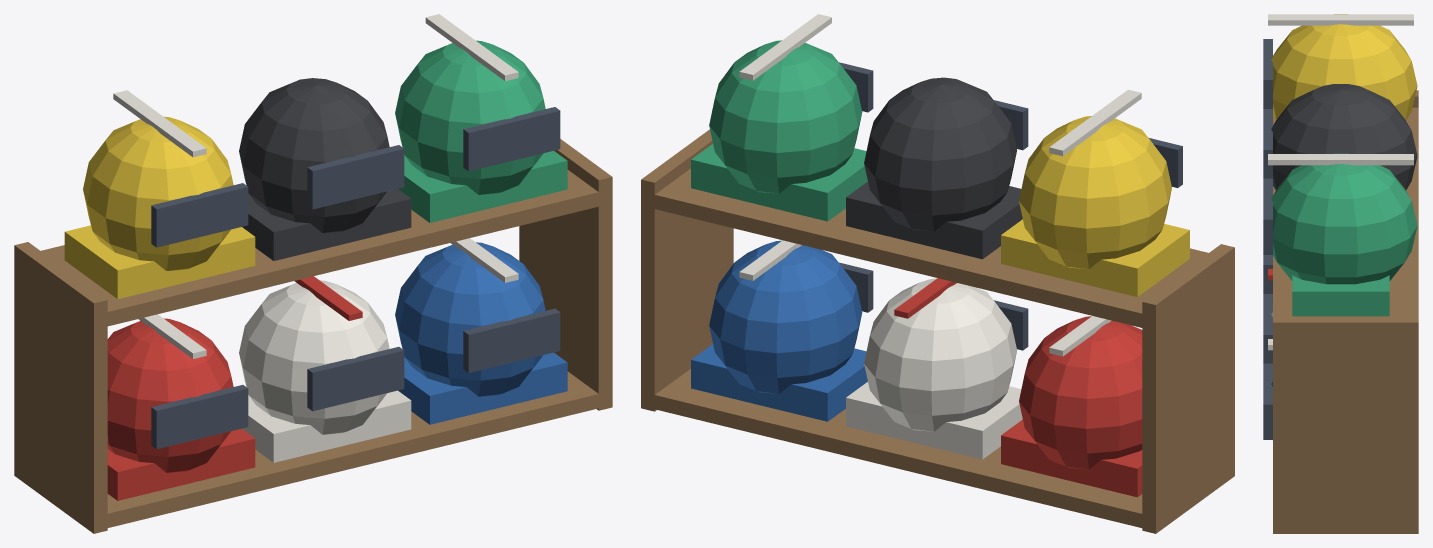
File: helmet_shelf.glb
The picture shows the model from 3 angles, left to right: view 1: azimuth 30°, elevation 25°; view 2: azimuth 150°, elevation 25°; view 3: azimuth 270°, elevation 25°; orthographic projection. The views are drawn at different scales.
Visible parts, largest first — view 1: helmet_shelf; view 2: helmet_shelf; view 3: helmet_shelf.
Boxes of the visible parts, x1,y1,x2,y2 form: helmet_shelf: [14, 14, 612, 533]; helmet_shelf: [641, 14, 1234, 533]; helmet_shelf: [1263, 14, 1418, 533].
Bounding box in the file's own units: 1.13 × 0.751 × 0.32.
